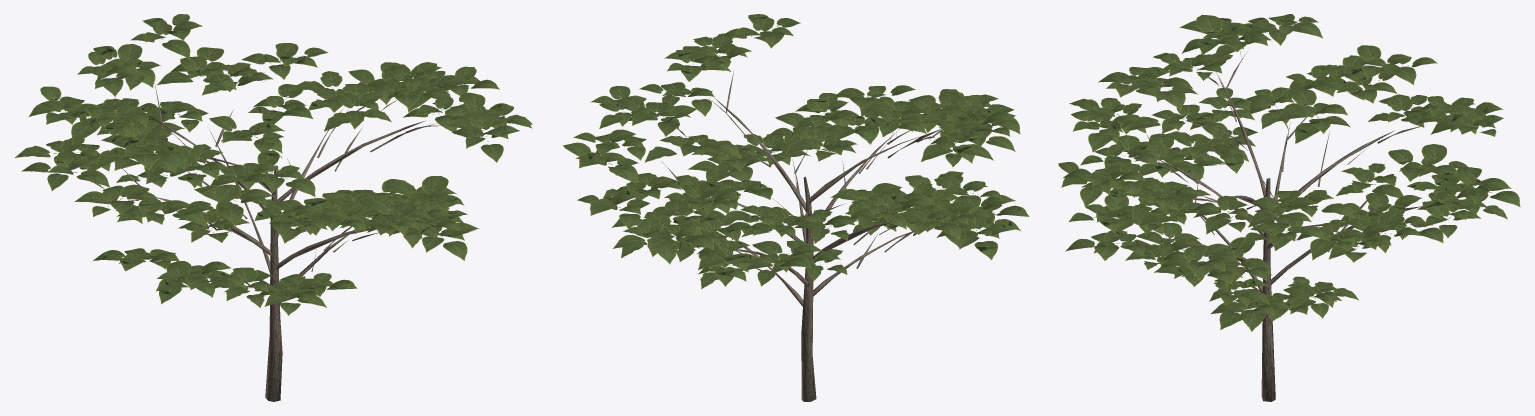
File: broussonetia-3.glb
3 renders of one model, left to right at view 1: azimuth 30°, elevation 25°; view 2: azimuth 150°, elevation 25°; view 3: azimuth 270°, elevation 25°, orthographic. The views are drawn at different scales.
Parts seen in each view (by area): view 1: leaf, bark, leaf-edge; view 2: leaf, bark, leaf-edge; view 3: leaf, bark, leaf-edge.
Part boxes in pixels (bbox=[...]): leaf: bbox=[15, 14, 532, 315]; bark: bbox=[92, 72, 443, 401]; leaf-edge: bbox=[31, 18, 531, 303]; leaf: bbox=[563, 14, 1029, 289]; bark: bbox=[639, 71, 943, 401]; leaf-edge: bbox=[587, 16, 1028, 276]; leaf: bbox=[1058, 14, 1520, 331]; bark: bbox=[1133, 51, 1449, 401]; leaf-edge: bbox=[1083, 17, 1495, 310].
Size of what is drawn, in the model's own units: 3.1 by 2.2 by 3.05.
5 materials, 4 textured.
